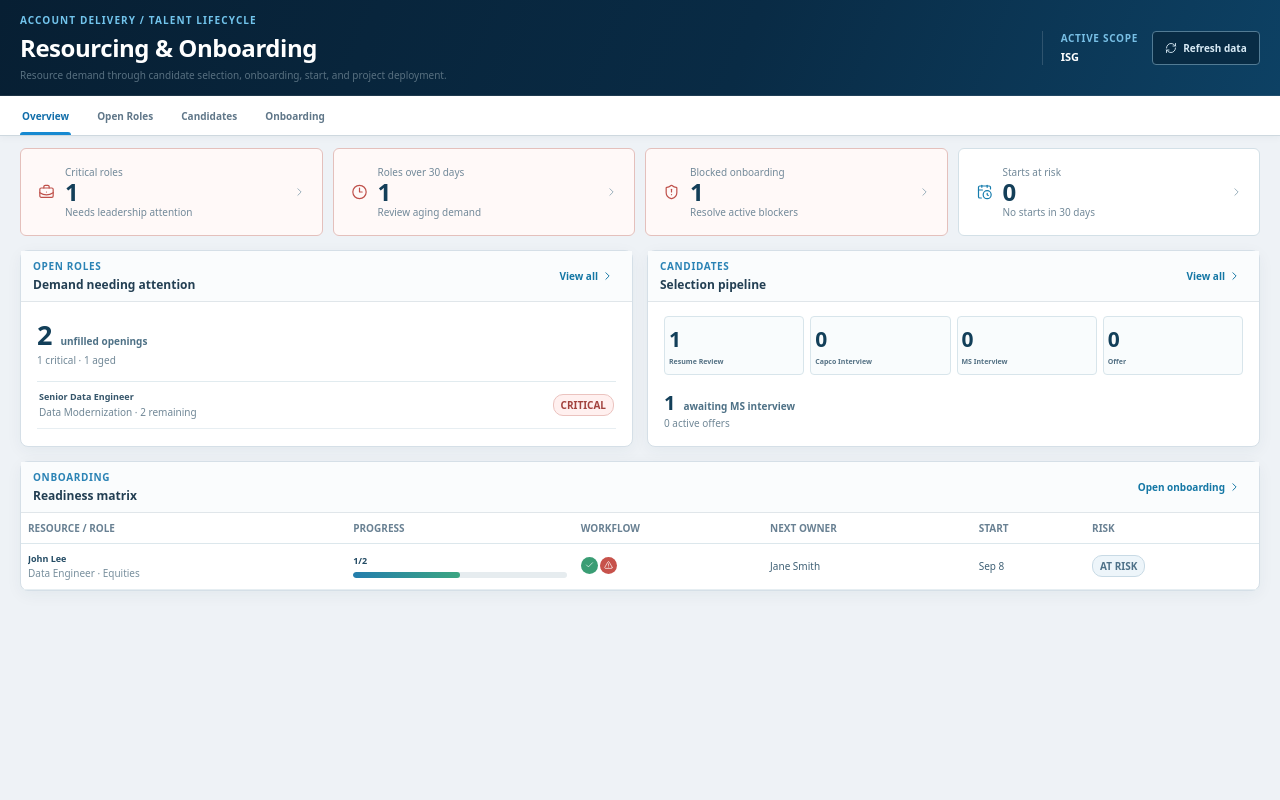
Test case: ResourcingView › renders critical workflow metrics and drills into open roles
Expected: the text "Critical roles" is shown, [65, 165, 123, 179]
Expected: the heading "Readiness matrix" is shown, [33, 487, 137, 504]
Click the button "Open Roles".
click(125, 116)  # box [95, 96, 155, 135]
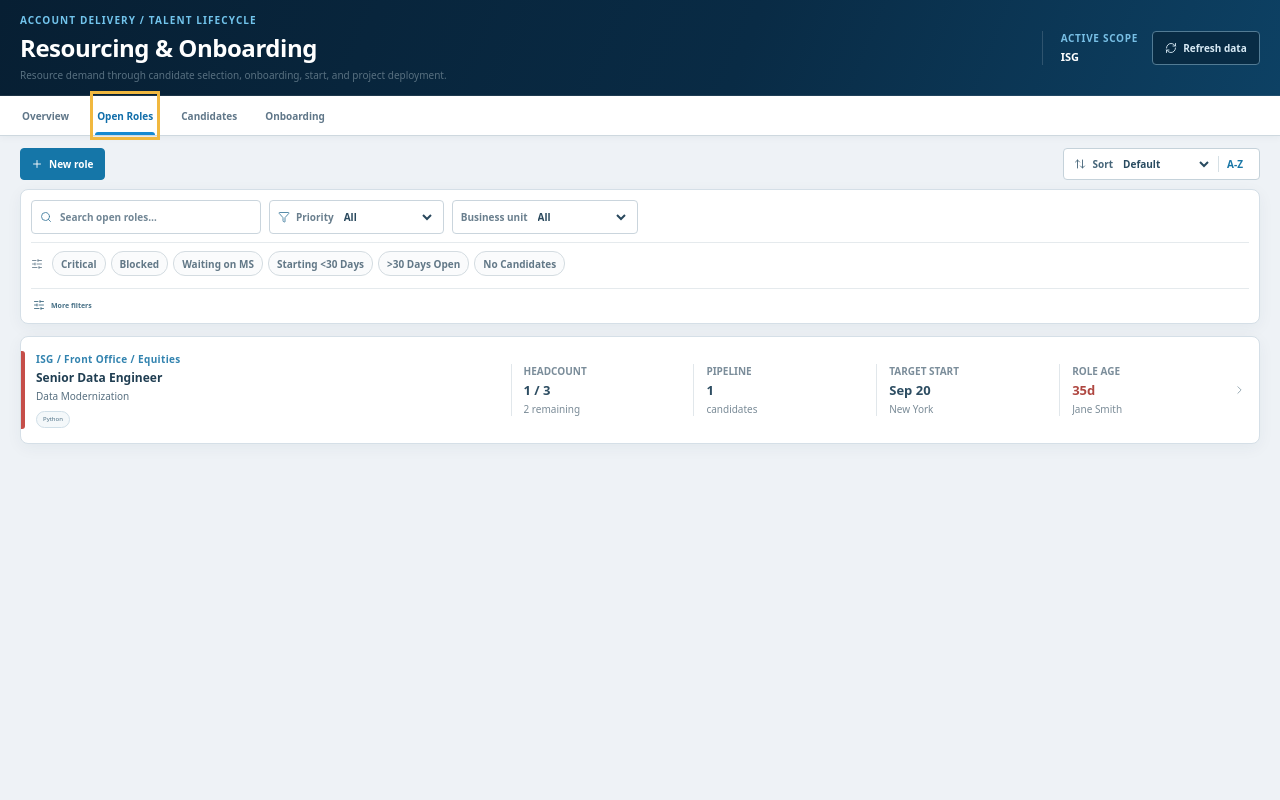
Expected: the heading "Senior Data Engineer" is shown, [36, 369, 162, 386]
Expected: the text "2 remaining" is shown, [524, 402, 580, 416]
